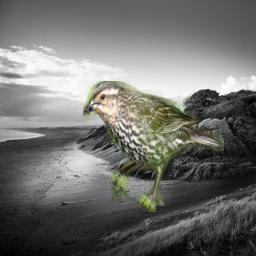Sparrow: (83, 81, 224, 212)
